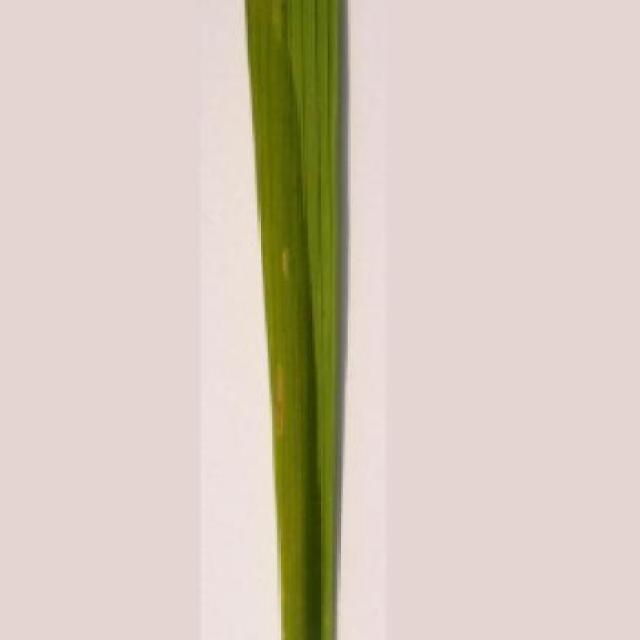Brown_Spot: (245, 0, 352, 640)
